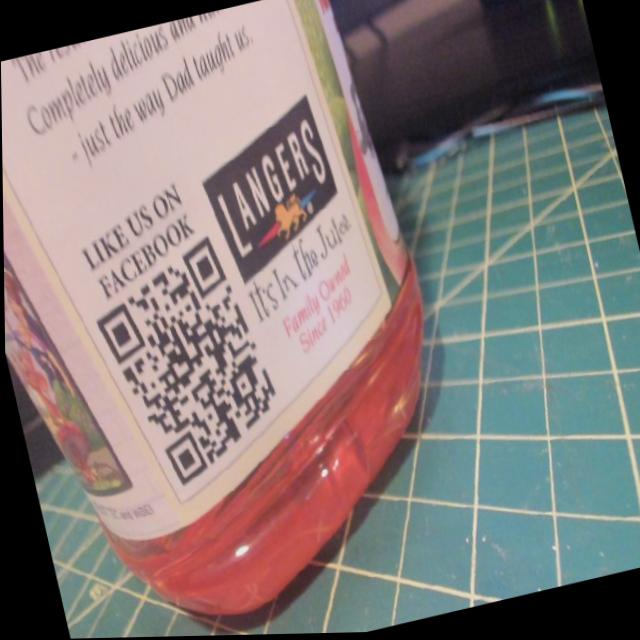QR_CODE: (63, 188, 303, 514)
